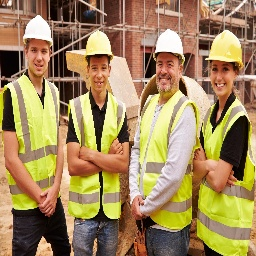helmet: (205, 29, 246, 68), (22, 15, 56, 47), (152, 29, 186, 61), (83, 32, 115, 63)
person: (1, 16, 65, 256), (135, 27, 198, 256), (66, 31, 129, 256), (198, 29, 252, 256)
vest: (201, 98, 255, 256), (4, 71, 62, 216), (69, 89, 127, 224), (140, 96, 197, 229)
